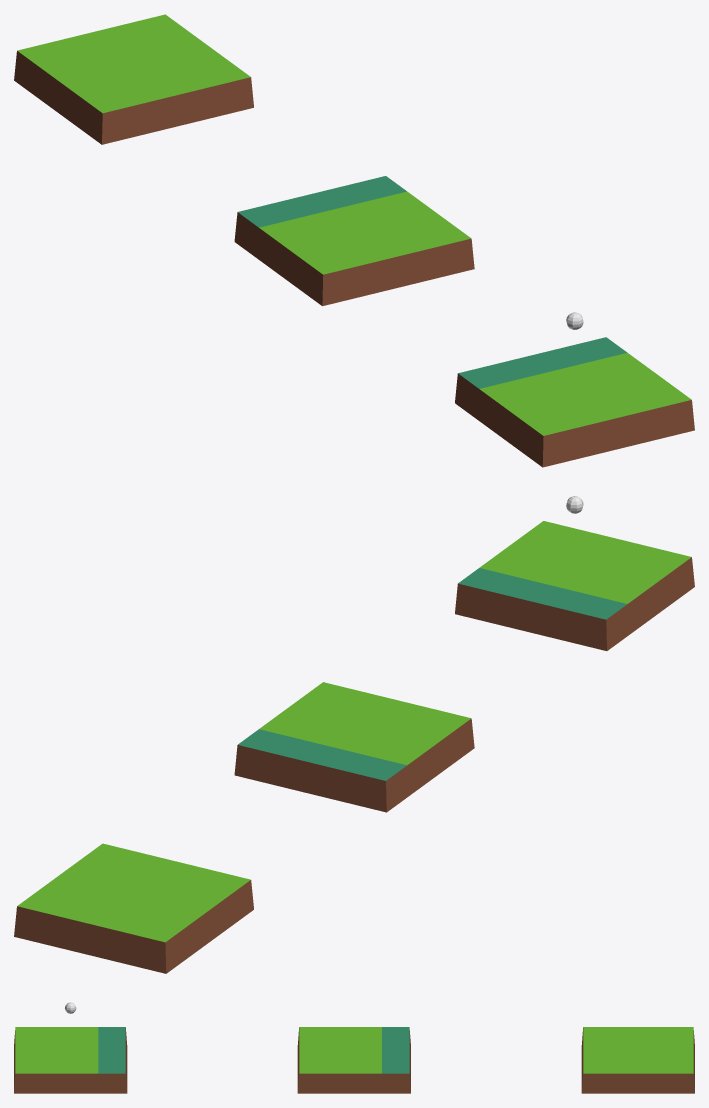
File: level2.CQ.glb
3 renders of one model, top to bottom at view 1: azimuth 30°, elevation 25°; view 2: azimuth 150°, elevation 25°; view 3: azimuth 270°, elevation 25°, orthographic. The views are drawn at different scales.
Parts seen in each view (by area): view 1: basic-moveable, basic-fixed, basic-moveable.001; view 2: basic-moveable.001, basic-moveable, basic-fixed; view 3: basic-moveable, basic-moveable.001, basic-fixed.
Part boxes in pixels (box(x1,y1,x2,y2)): basic-moveable: box(455, 337, 694, 467); basic-fixed: box(14, 14, 253, 144); basic-moveable.001: box(234, 176, 474, 306); basic-moveable.001: box(234, 682, 474, 812); basic-moveable: box(455, 521, 694, 650); basic-fixed: box(14, 843, 253, 973); basic-moveable: box(14, 1027, 127, 1093); basic-moveable.001: box(297, 1027, 410, 1093); basic-fixed: box(581, 1027, 694, 1093).
Bounding box in the file's own units: 2 × 1.3 × 12.03.
Materials: 2 (2 with a texture image).
